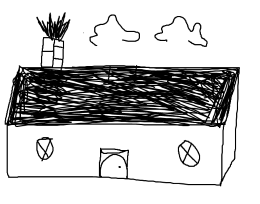closed_window: (178, 139, 200, 168), (35, 137, 54, 160)
clouds: (87, 14, 141, 47), (154, 15, 207, 48)
door: (95, 141, 134, 184)
shaded_roof: (3, 64, 245, 134)
smoking_chimney: (30, 11, 76, 75)
wall: (5, 118, 226, 186)
